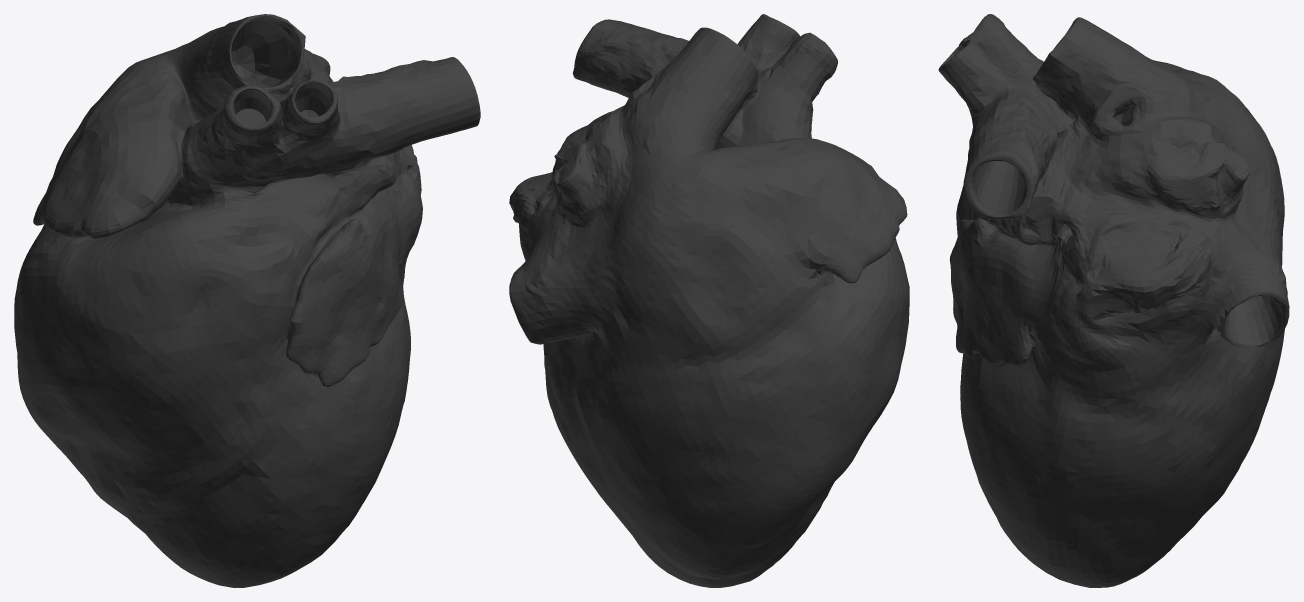
The model's file is mesh_canine_cardiac_low.glb.
The picture shows the model from 3 angles, left to right: view 1: azimuth 30°, elevation 25°; view 2: azimuth 150°, elevation 25°; view 3: azimuth 270°, elevation 25°; orthographic projection. The views are drawn at different scales.
Parts seen in each view (by area): view 1: mesh_canine_cardiac_low; view 2: mesh_canine_cardiac_low; view 3: mesh_canine_cardiac_low.
Part boxes in pixels (box(x1,y1,x2,y2)): mesh_canine_cardiac_low: box(14, 14, 480, 587); mesh_canine_cardiac_low: box(509, 14, 909, 587); mesh_canine_cardiac_low: box(938, 14, 1289, 587).
Bounding box in the file's own units: 0.9072 × 1.3 × 0.7426.
Materials: 1 (1 with a texture image).
